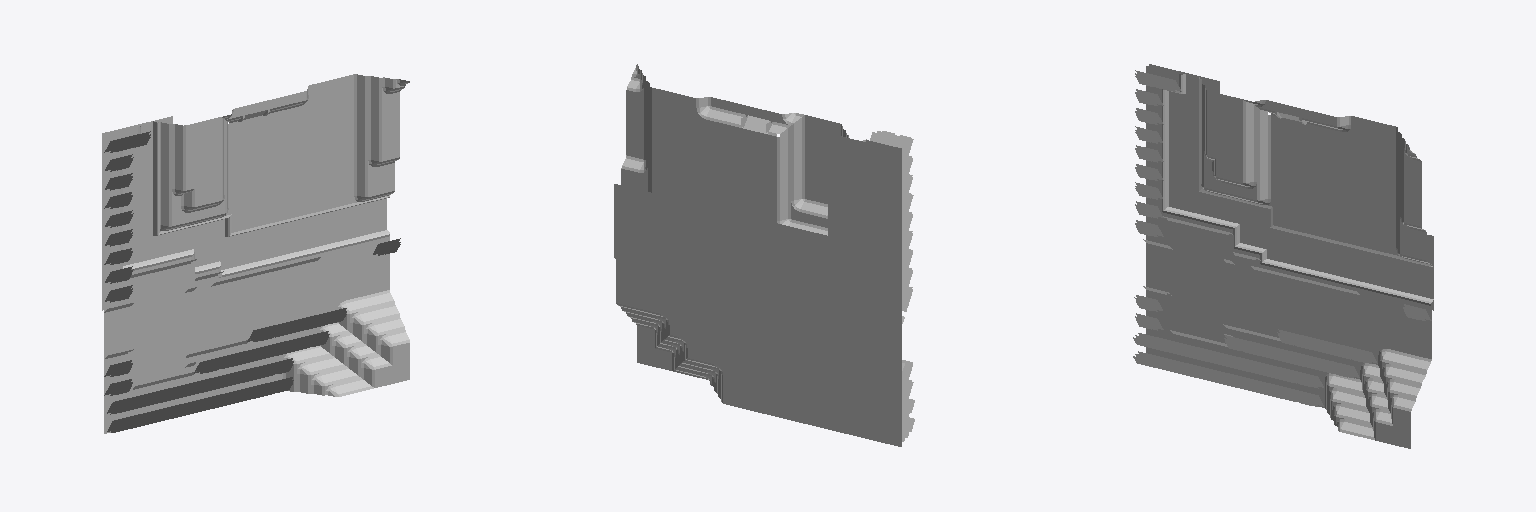
Rendered from Plat_full_05_14.obj.
3 renders of one model, left to right at view 1: azimuth 30°, elevation 25°; view 2: azimuth 150°, elevation 25°; view 3: azimuth 330°, elevation 25°, orthographic.
Visible parts, largest first — view 1: map; view 2: map; view 3: map.
Boxes of the visible parts, <box> form: map: <box>102,74,409,433</box>; map: <box>614,64,914,446</box>; map: <box>1133,64,1433,448</box>.
Size of the model in its own units: 32.5 by 32.12 by 4.5.